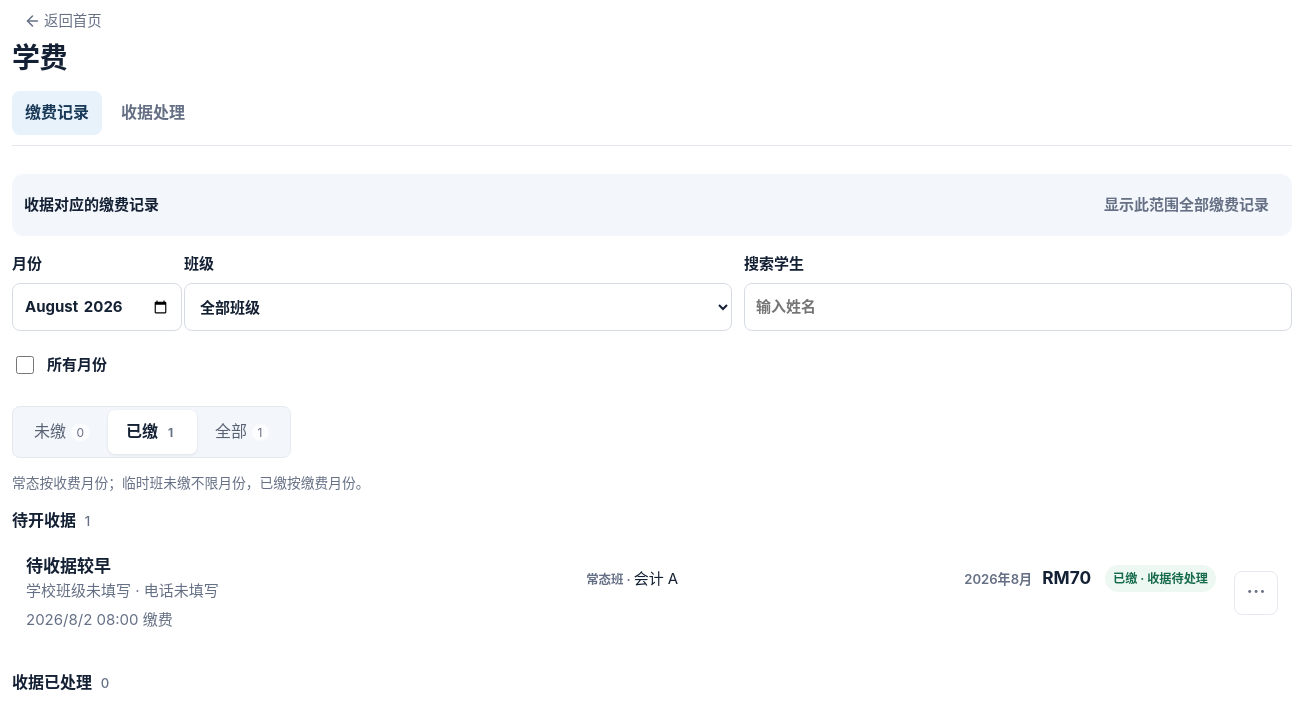
MonthlyFeesPage workflow › locates the exact receipt payment and can return to the ordinary filtered list
Expected: the text "待收据较早" is shown, [26,556,111,576]
Expected: the text "待收据较晚" is not shown
Click the button "显示此范围全部缴费记录" at (1186, 205), box [1093,182,1280,228]
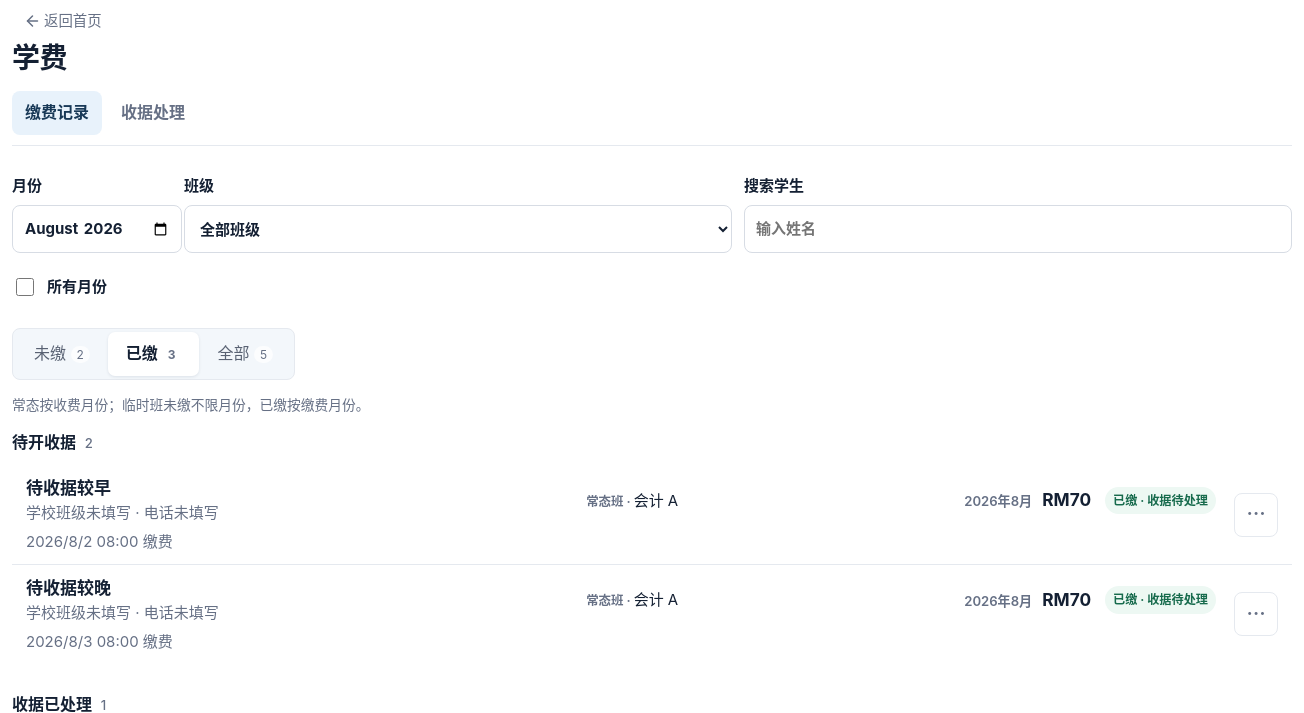
Expected: the text "待收据较晚" is shown, [26,578,111,598]
